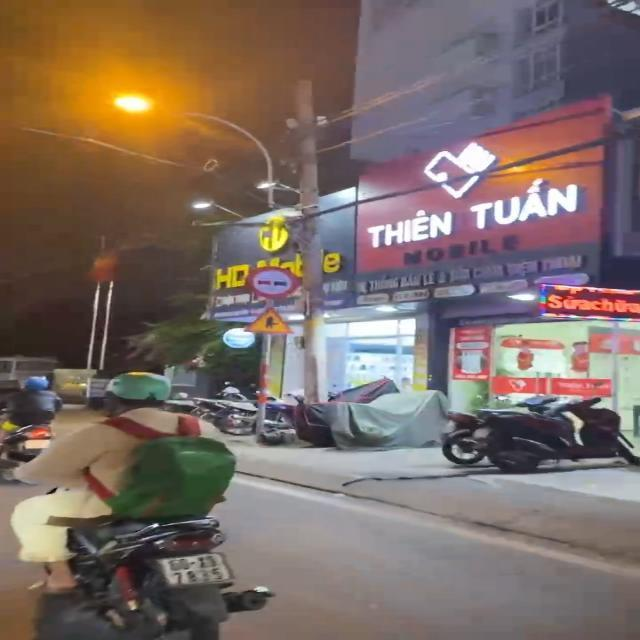125-cam-vuot: (246, 264, 302, 297)
207-giao-nhau-voi-duong-khong-uu-tien: (242, 308, 294, 337)
